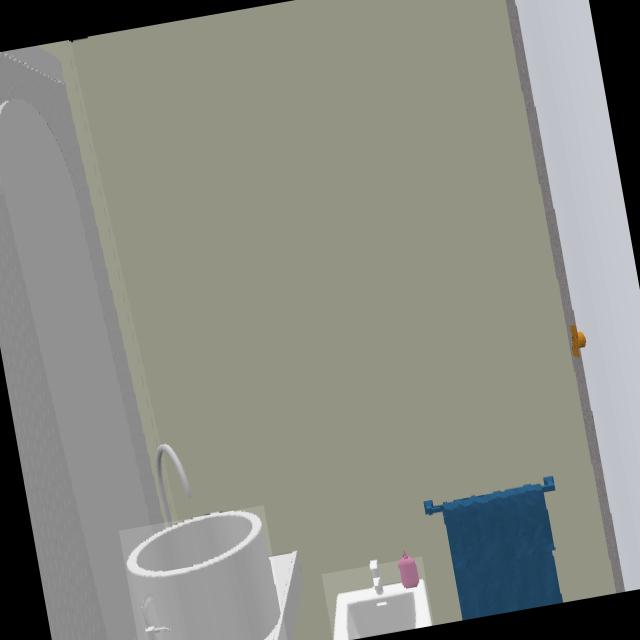washbasin: (124, 510, 281, 640), (334, 564, 433, 640)
